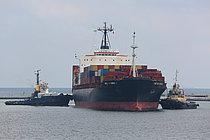Ship: (68, 23, 170, 114)
